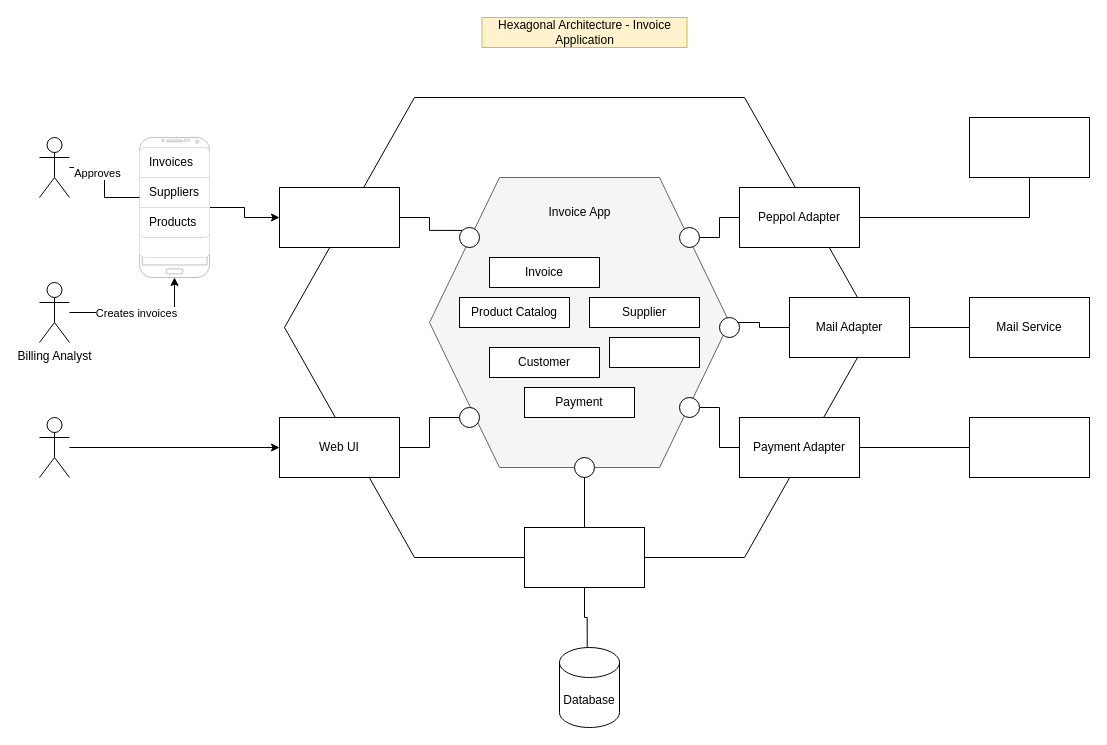
Image size: 1107x745. Some labels were removed from this diagram. Each missing label, with the centre of its shape:
Admin: the point at 54,447
DB Adapter: the point at 584,557
Manager: the point at 54,167
Notifications: the point at 654,352
Payment Service: the point at 1029,447
Peppol Access Point: the point at 1029,147
Rest API: the point at 339,217
